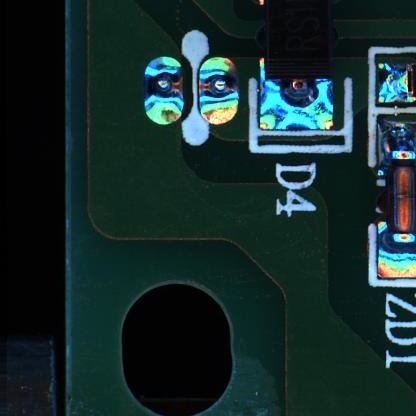spot: (143, 55, 184, 129), (198, 55, 239, 125)
